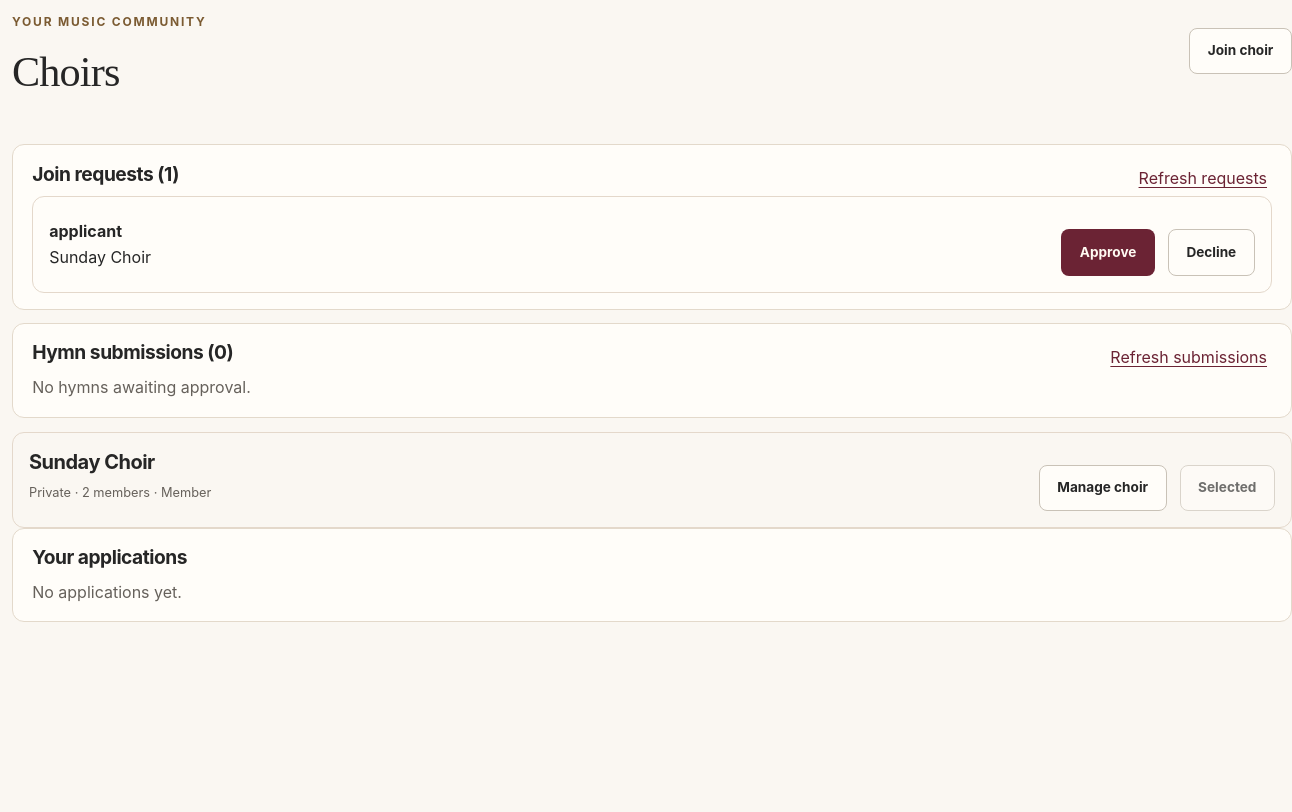
Scenario: lets an Admin review and mark a request approved directly on Choirs
Expected: the text "applicant" is shown, [49,221,122,241]
What coordinates should you click on to do the following:
click the button "Approve"
I would click on:
 (1108, 252)
Its box is [1061,229,1155,276].
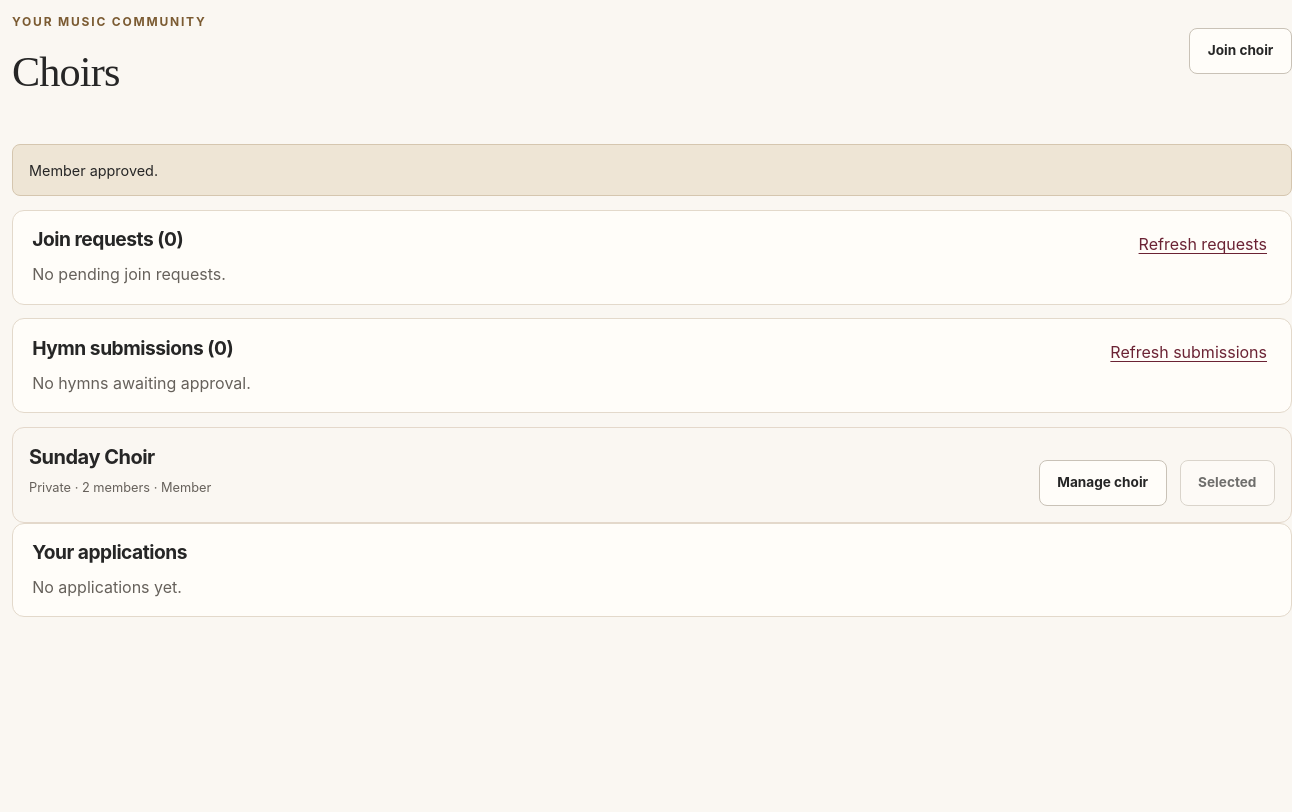
Expected: the text "No pending join requests." is shown, [32,264,226,284]
